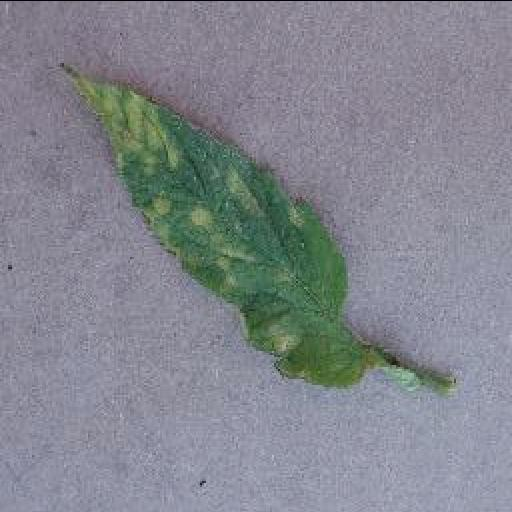disease_tomato: (60, 64, 372, 386)
